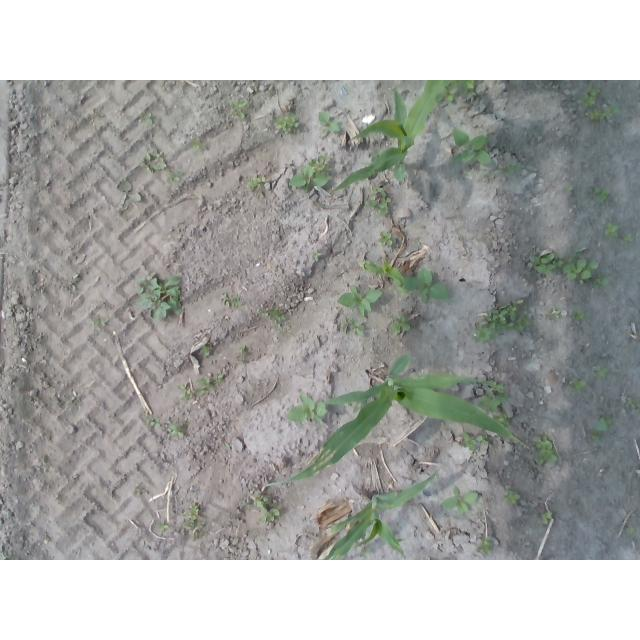Maize: (262, 356, 532, 488), (329, 80, 452, 200), (322, 470, 443, 560)
Weeds: (474, 300, 530, 344), (135, 273, 184, 323), (361, 259, 408, 297), (402, 267, 451, 303), (289, 155, 331, 194), (450, 127, 491, 165), (336, 285, 383, 318), (287, 395, 326, 426), (442, 486, 478, 517), (244, 493, 280, 523), (563, 255, 598, 281), (436, 80, 477, 102), (530, 249, 563, 276), (364, 186, 393, 215), (116, 180, 143, 207), (534, 435, 558, 465), (138, 149, 166, 174), (477, 390, 507, 413), (274, 112, 302, 133), (182, 506, 205, 531), (316, 111, 340, 133), (587, 108, 622, 123), (592, 418, 613, 441), (229, 98, 249, 120), (343, 317, 365, 337), (389, 315, 411, 335), (259, 308, 285, 324), (583, 85, 601, 108), (194, 377, 215, 396), (246, 172, 266, 190), (476, 537, 494, 556), (588, 187, 610, 202), (461, 432, 477, 452), (491, 413, 512, 428), (379, 230, 398, 246), (88, 316, 109, 330), (503, 489, 521, 505), (603, 221, 618, 240), (353, 398, 371, 413), (168, 423, 185, 438), (167, 169, 185, 183), (178, 384, 193, 400), (189, 138, 207, 151), (569, 379, 587, 392), (625, 397, 640, 412), (593, 366, 608, 380), (488, 381, 505, 393), (505, 163, 521, 175), (139, 112, 153, 125), (593, 279, 609, 290), (541, 511, 553, 525), (572, 311, 586, 322), (146, 417, 161, 427), (621, 232, 634, 243), (476, 435, 489, 446), (220, 293, 230, 307), (551, 307, 561, 320), (232, 296, 242, 308), (198, 345, 210, 355), (310, 251, 323, 260), (157, 524, 170, 533), (236, 346, 246, 355), (626, 526, 635, 535), (213, 374, 223, 382), (564, 186, 573, 193)
